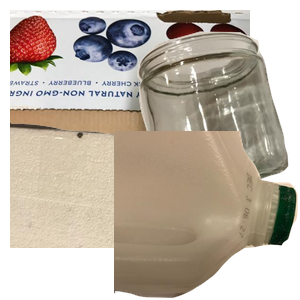cardboard: (10, 10, 250, 190)
glass: (135, 29, 300, 209)
plastic: (114, 131, 300, 300)
trash: (10, 120, 207, 300)
